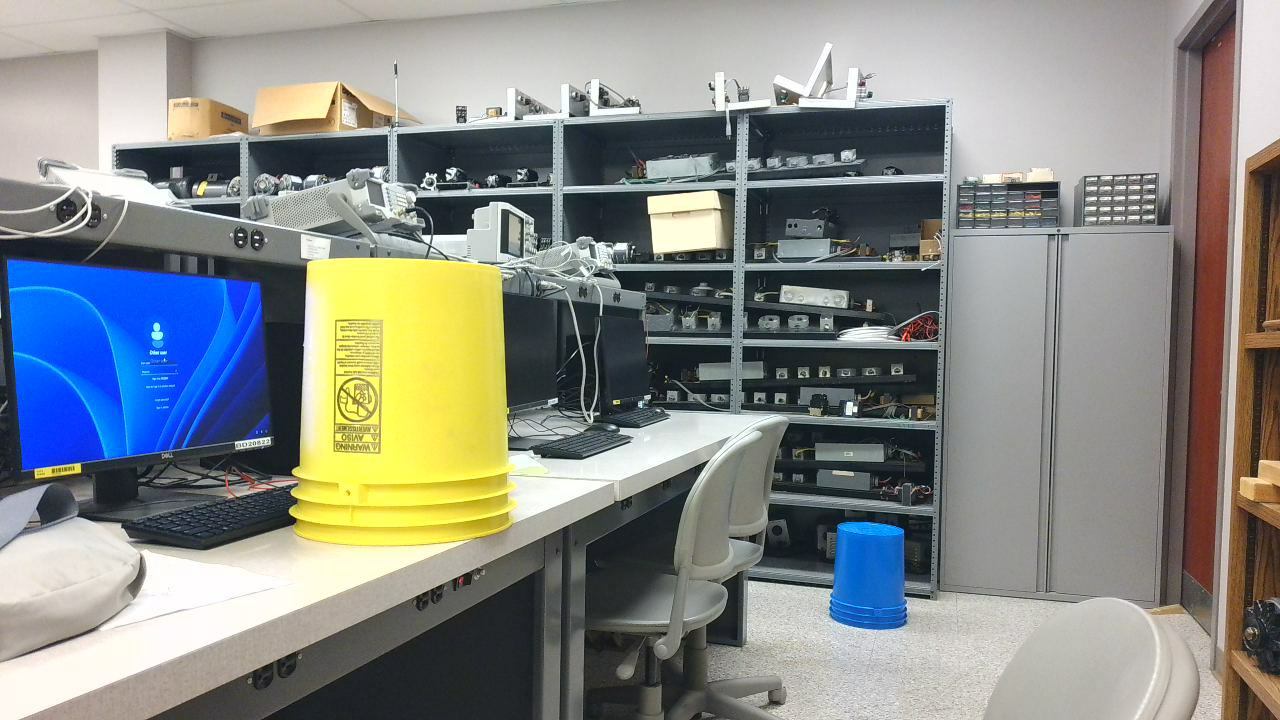blue_bucket: (830, 523, 916, 639)
yellow_bucket: (287, 260, 528, 557)
